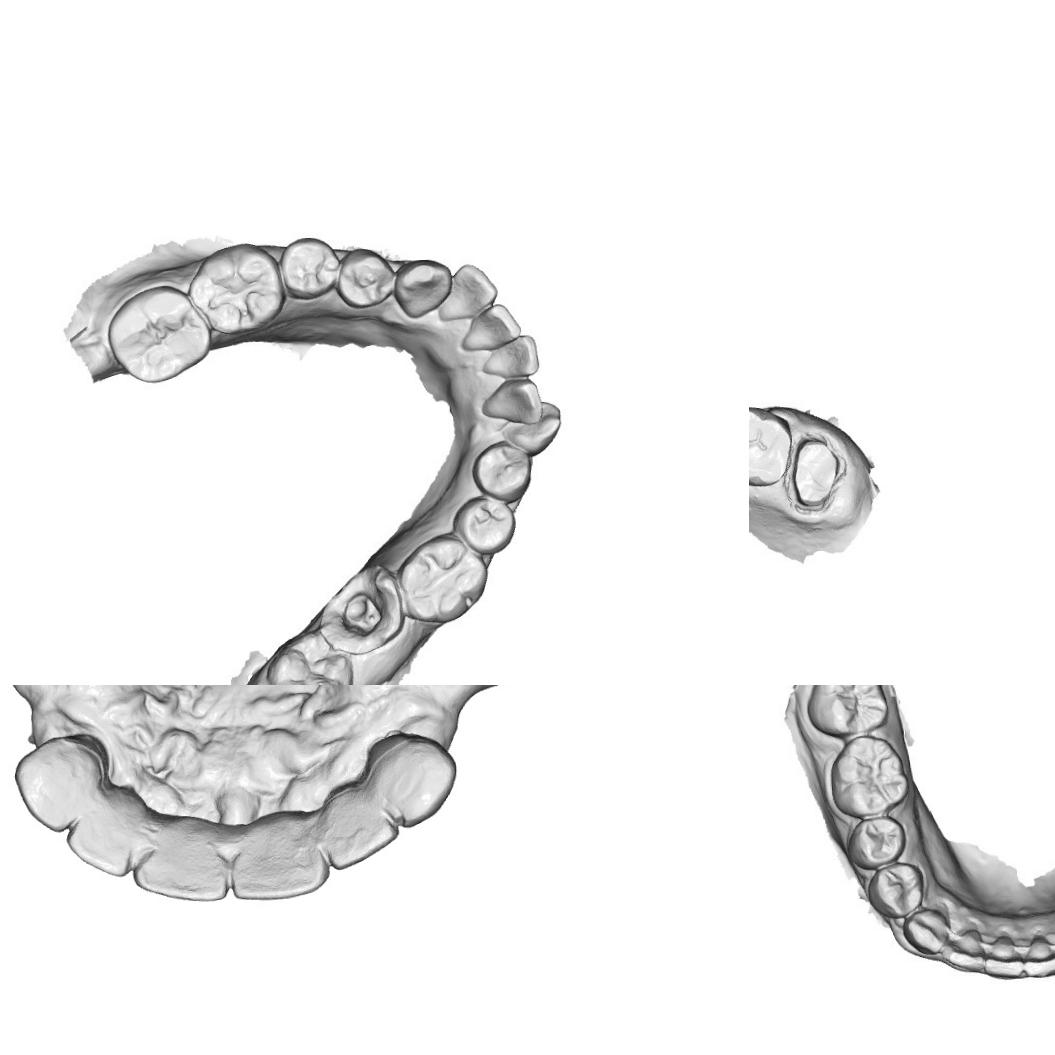canine: (13, 740, 102, 834), (373, 734, 460, 828), (391, 256, 452, 319), (498, 399, 565, 454), (905, 904, 950, 950)
crown: (787, 434, 843, 512)
incisor: (321, 789, 403, 872), (230, 834, 327, 903), (130, 837, 229, 904), (64, 814, 135, 880), (437, 258, 502, 322), (476, 375, 544, 427), (475, 332, 541, 384), (460, 300, 522, 352), (944, 925, 990, 975), (984, 933, 1024, 975), (1022, 929, 1055, 977)
molar: (108, 282, 210, 386), (182, 238, 288, 338), (392, 531, 492, 626), (824, 732, 912, 818), (264, 629, 355, 685), (806, 685, 887, 739), (749, 404, 793, 489)
premolar: (276, 232, 340, 300), (470, 438, 536, 501), (452, 494, 518, 556), (334, 245, 398, 308), (863, 858, 926, 920), (850, 813, 909, 868)
